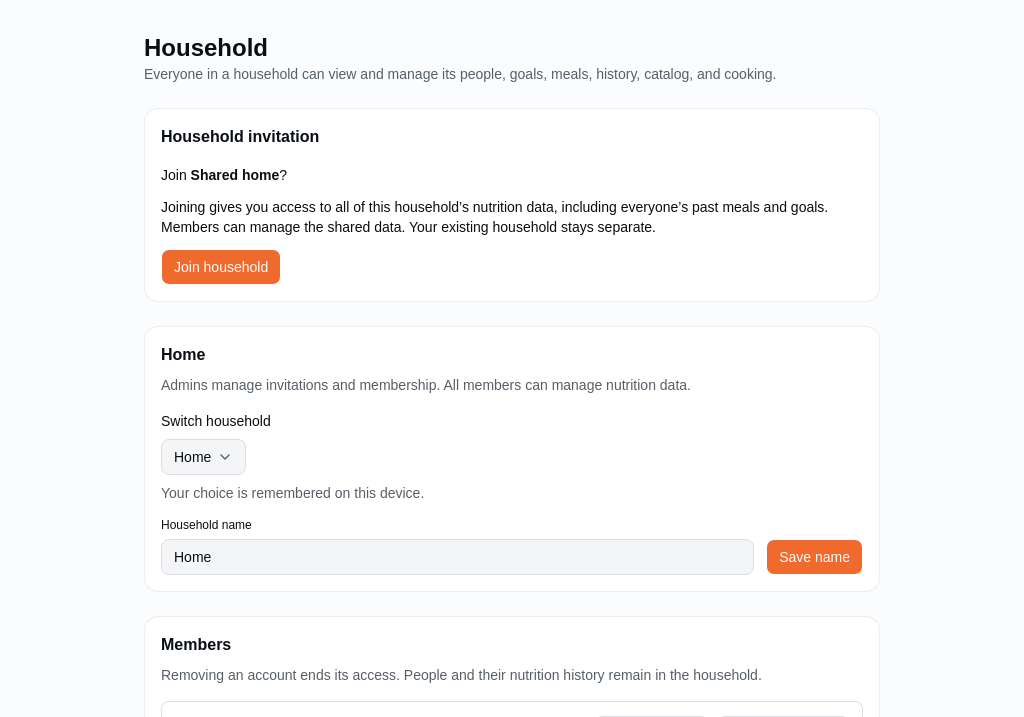
Test: household settings › shows invitation acceptance errors without requiring household access
The image size is (1024, 717).
Click the button "Join household" at (221, 267), box [161,249,281,285]
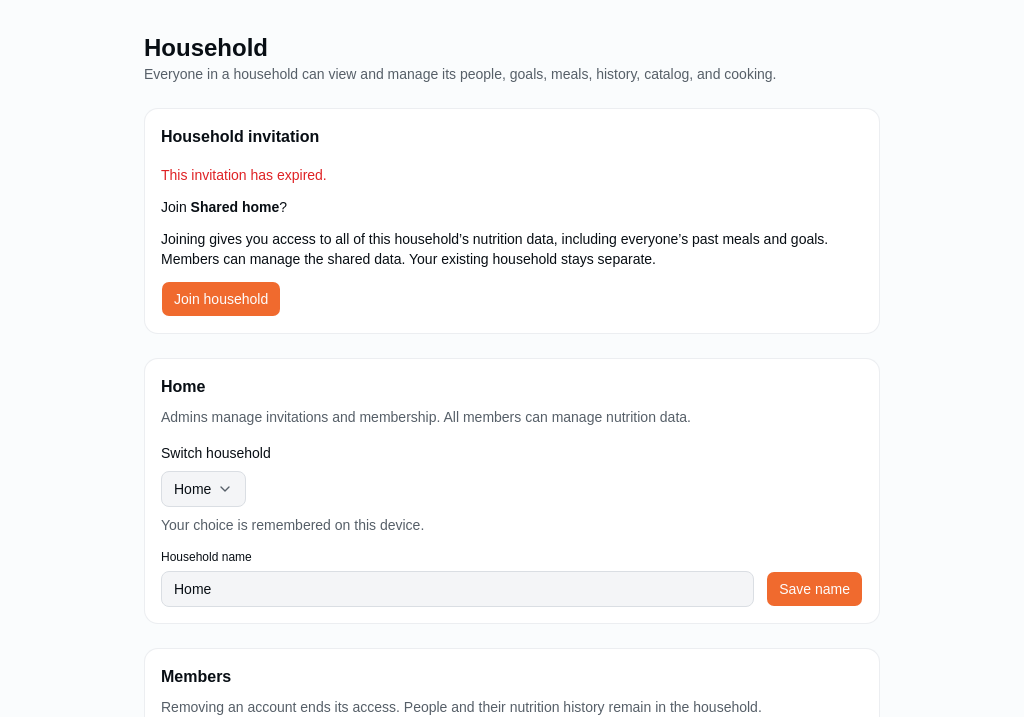
Expected: the button "Join household" is enabled, [161,281,281,317]
Now the message reads "This invitation has expired.", box [161,167,327,183]
